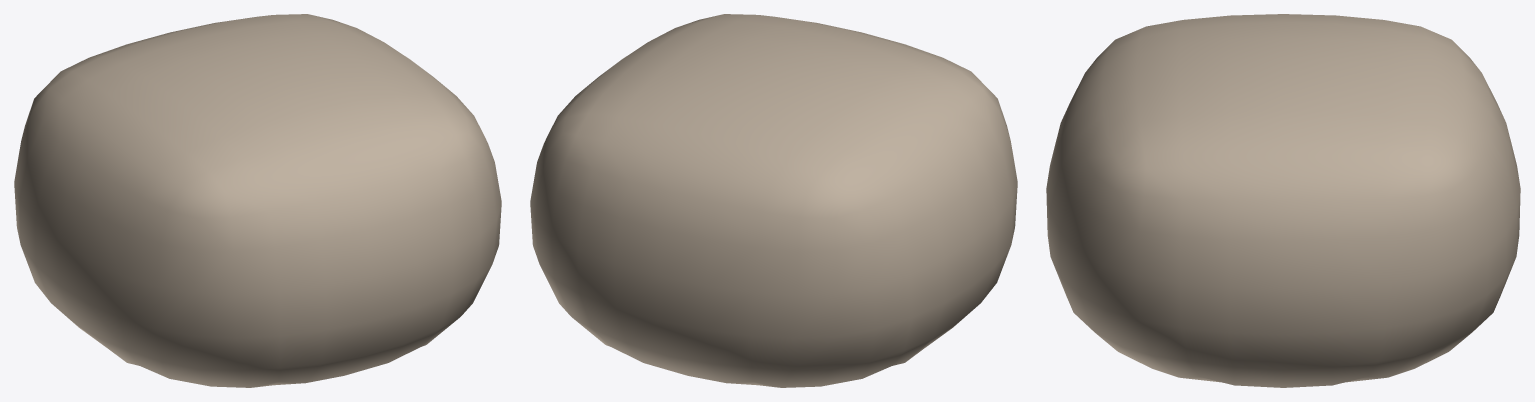
File: Pouf1_11.fbx
3 views of the same model, side by side, from view 1: azimuth 30°, elevation 25°; view 2: azimuth 150°, elevation 25°; view 3: azimuth 270°, elevation 25° (orthographic). The views are drawn at different scales.
Visible parts, largest first — view 1: pCube2906; view 2: pCube2906; view 3: pCube2906.
Boxes of the visible parts, x1,y1,x2,y2 form: pCube2906: (14,14,501,387); pCube2906: (530,14,1017,387); pCube2906: (1046,14,1520,387).
Bounding box in the file's own units: 34.57 × 23.24 × 34.56.
